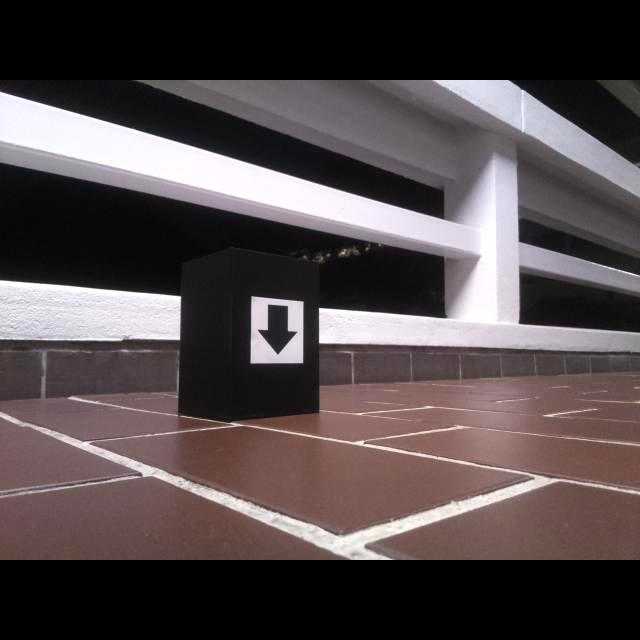DOWN: (256, 303, 299, 357)
